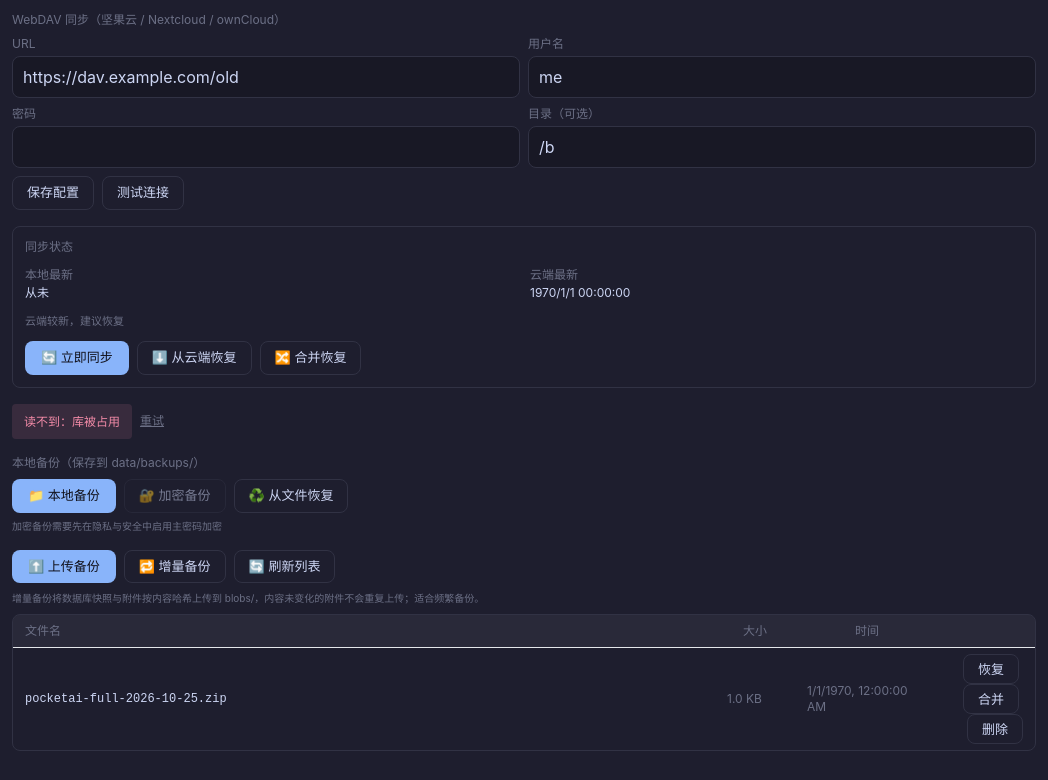
定时备份：首读就失败 ⇒ 开关那一整块不出现，那颗 stale 键也不在屏上，这一支补自己的出口 › 失败脸有键 ⇒ 按下去真多发一发 getBackupSchedule ⇒ 到货后定时块上屏、那句收回
The image size is (1048, 780).
Expected: the text "启用定时自动备份" is not shown
Click the button with test id "backup-schedule-read-retry" at {"x": 152, "y": 421}, box [140,413,164,429]
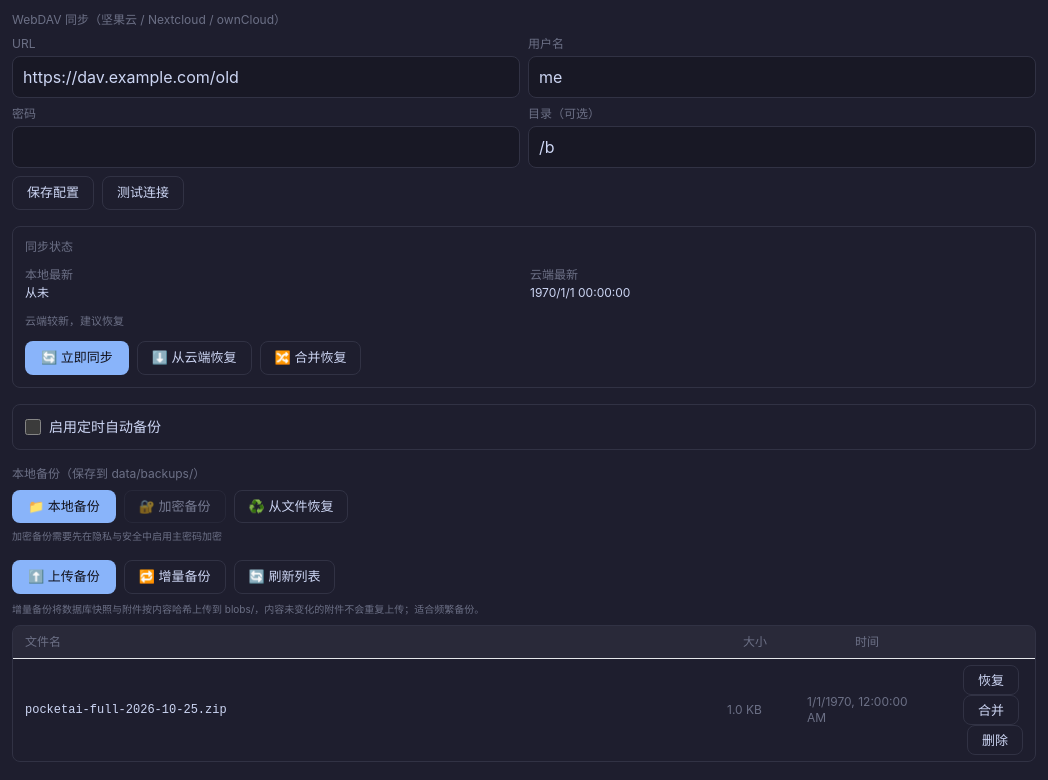
Now the button with test id "backup-schedule-read-retry" is gone
Now the text "启用定时自动备份" is shown, box [49,416,161,436]
